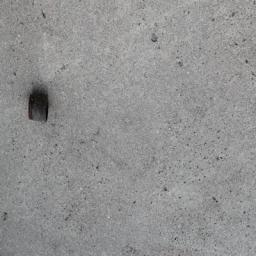FOD: (24, 90, 54, 127)
